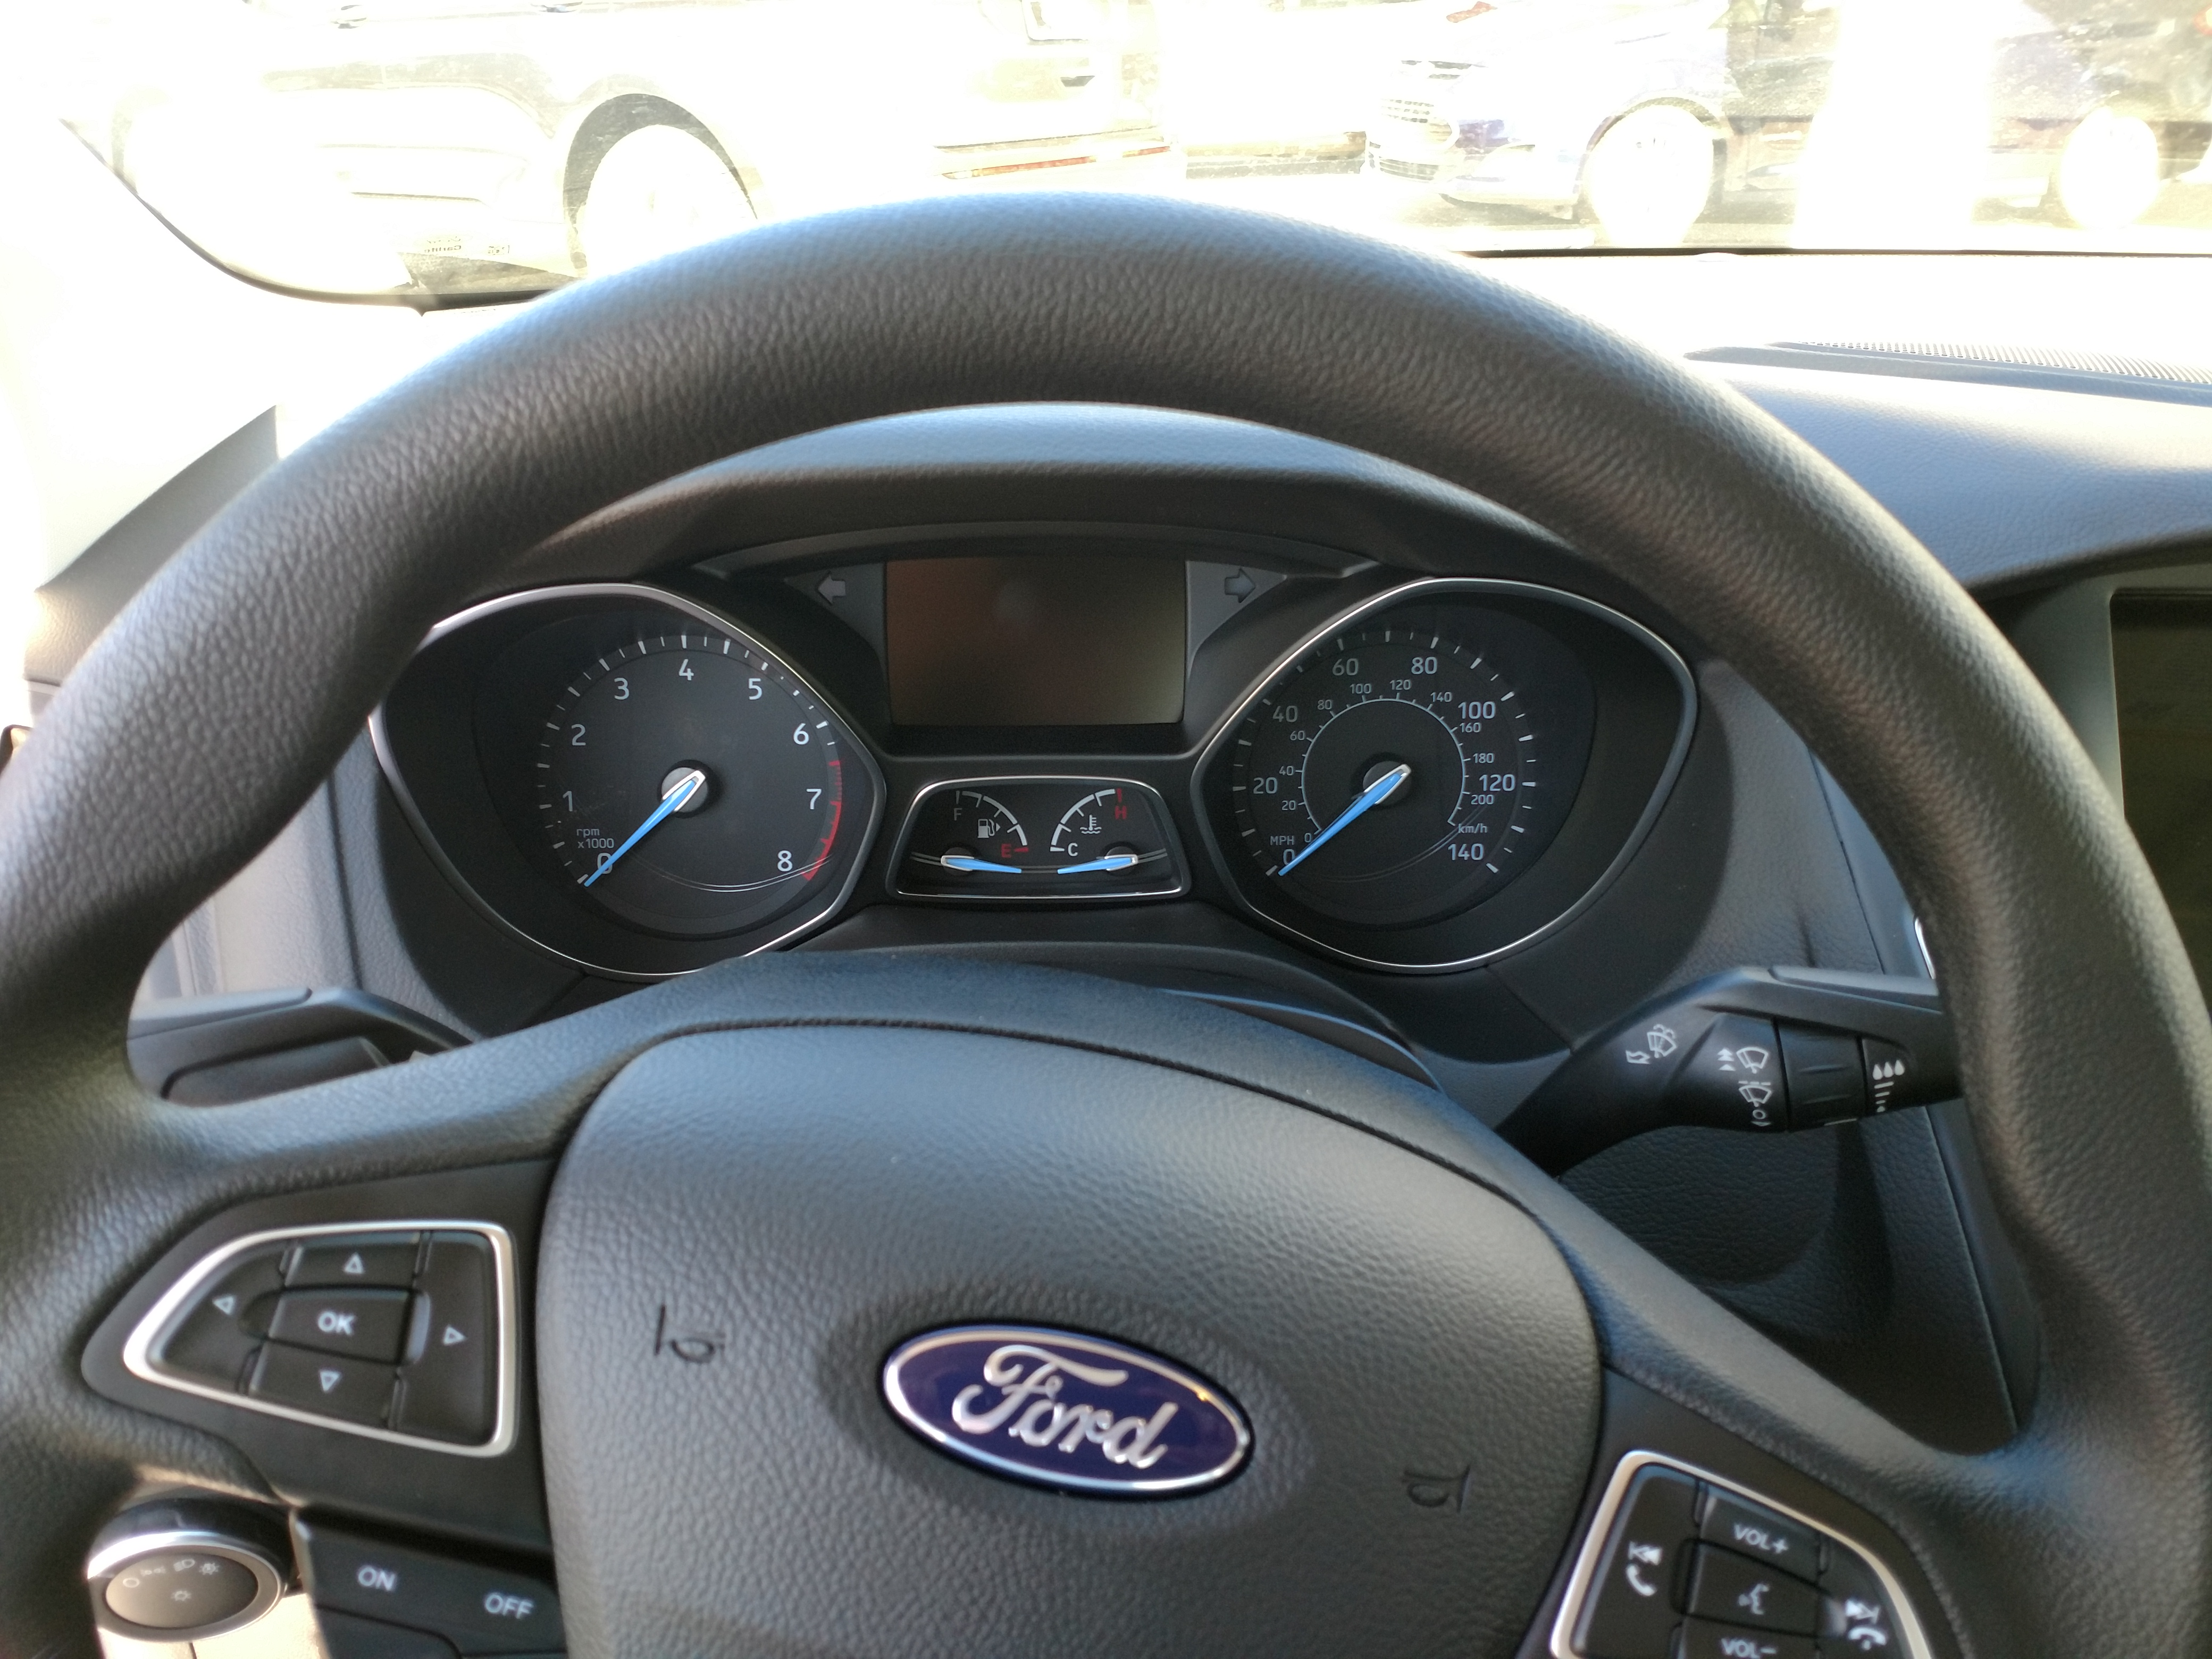Ford: (871, 1303, 1273, 1530)
